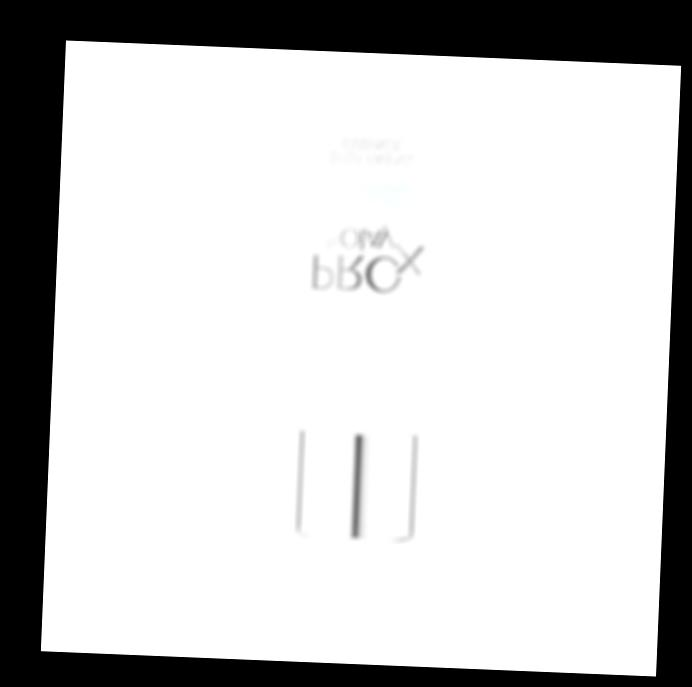cosmetic: (275, 90, 455, 634)
